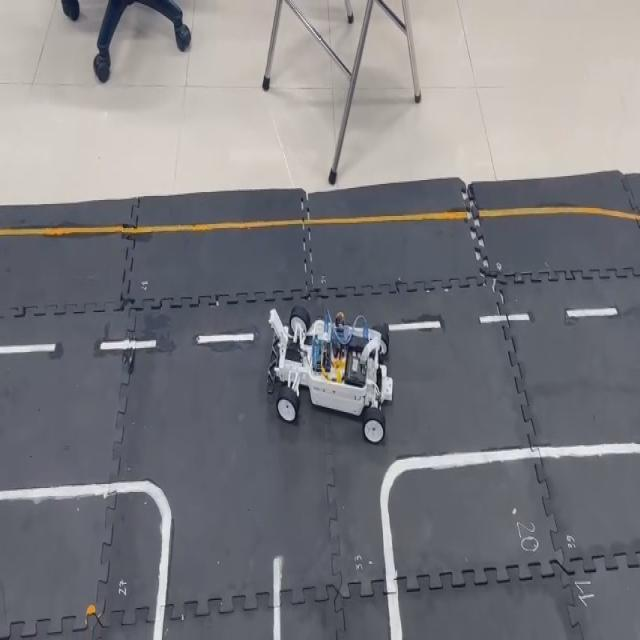SiCo-CAR: (266, 303, 394, 444)
